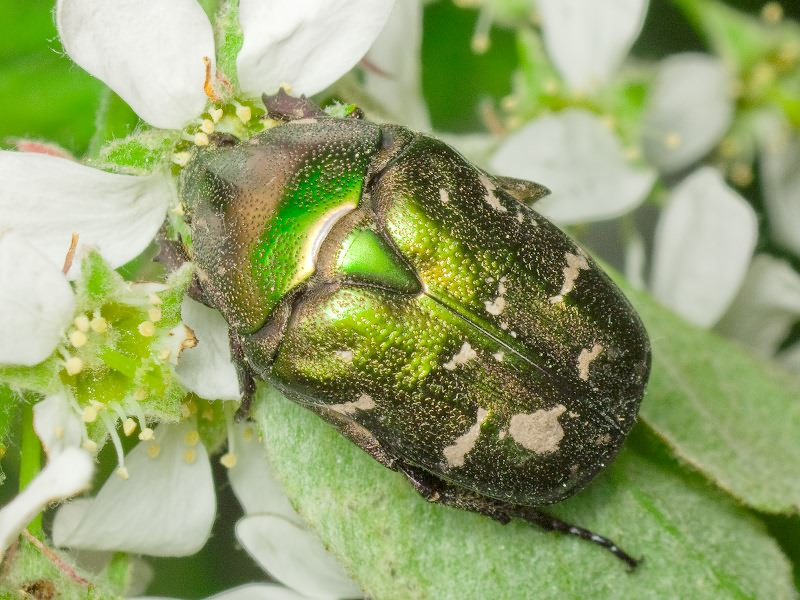Protaetia_metallica: (173, 119, 661, 572)
